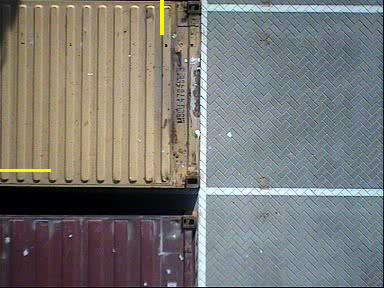groundmarker_2: (184, 160, 233, 188)
